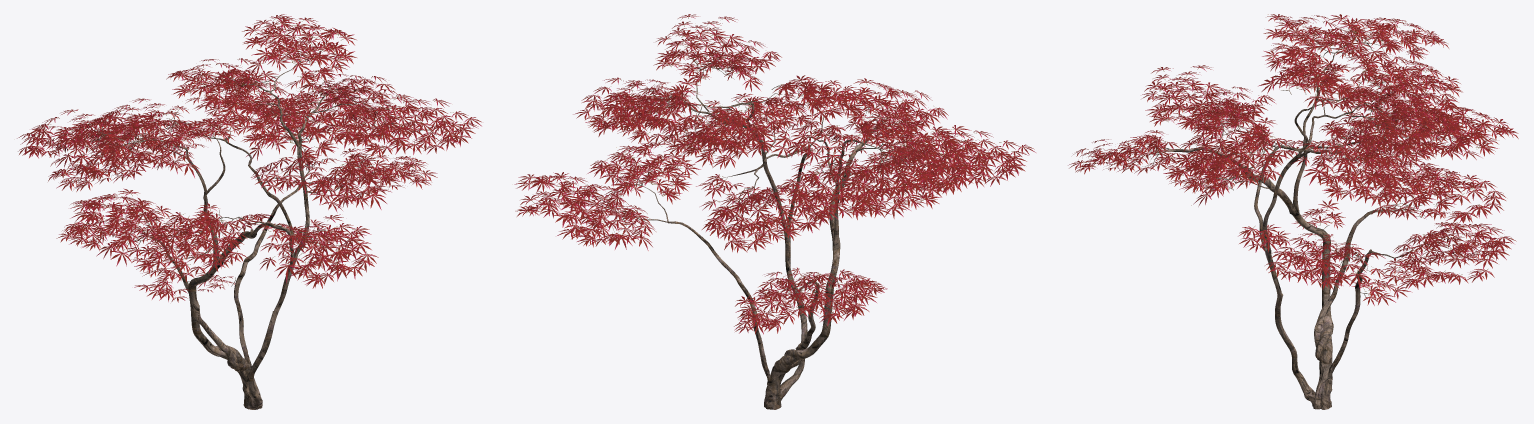
Rendered from Japanese Red Maple.fbx.
The picture shows the model from 3 angles, left to right: view 1: azimuth 30°, elevation 25°; view 2: azimuth 150°, elevation 25°; view 3: azimuth 270°, elevation 25°; orthographic projection. The views are drawn at different scales.
Visible parts, largest first — view 1: leaves, trunk; view 2: leaves, trunk; view 3: leaves, trunk.
Boxes of the visible parts, x1,y1,x2,y2 form: leaves: (17,14,481,302); trunk: (84,49,436,409); leaves: (514,14,1035,334); trunk: (596,49,956,409); leaves: (1068,14,1518,305); trunk: (1142,29,1453,409).
Bounding box in the file's own units: 22612 × 16914 × 20984.
